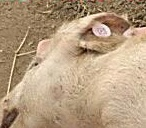text: (86, 15, 118, 43)
